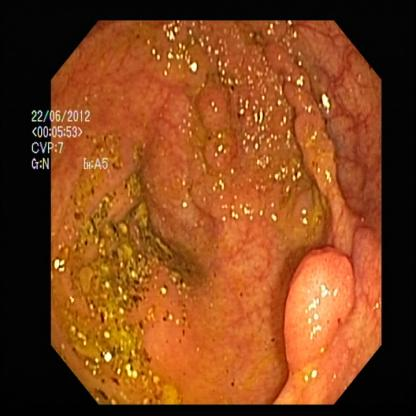Labels: (22, 95, 132, 207)
Polyps: (275, 60, 372, 238), (280, 246, 364, 368)
